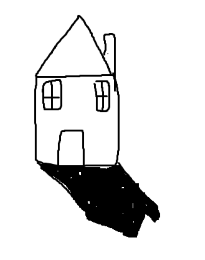chimney: (101, 26, 121, 76)
closed_window: (89, 76, 113, 115), (41, 79, 66, 114)
door: (53, 122, 91, 170)
roof: (28, 11, 122, 80)
shadow: (36, 158, 166, 242)
wall: (33, 73, 122, 167)
